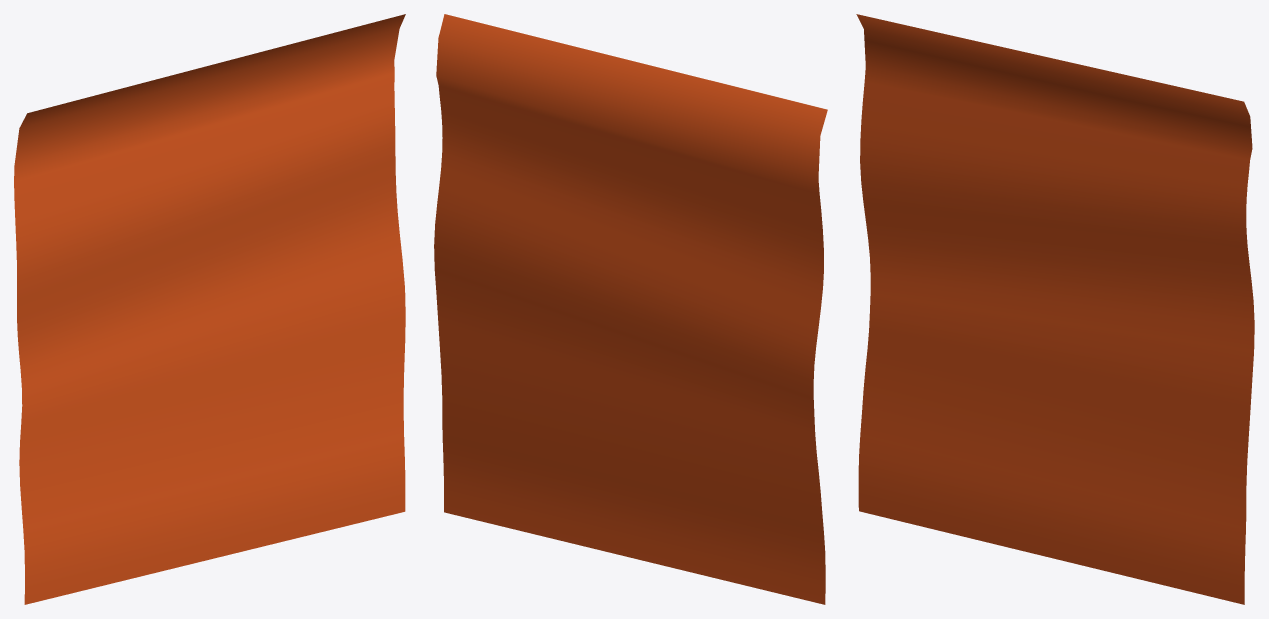
File: afiche_02.fbx
3 views of the same model, side by side, from view 1: azimuth 30°, elevation 25°; view 2: azimuth 150°, elevation 25°; view 3: azimuth 330°, elevation 25° (orthographic).
Visible parts, largest first — view 1: afiche_02; view 2: afiche_02; view 3: afiche_02.
Part boxes in pixels (left/top/right/bottom): afiche_02: left=14, top=14, right=405, bottom=604; afiche_02: left=434, top=14, right=827, bottom=604; afiche_02: left=856, top=14, right=1254, bottom=604.
Size of the model in its own units: 254 by 311 by 14.06.
